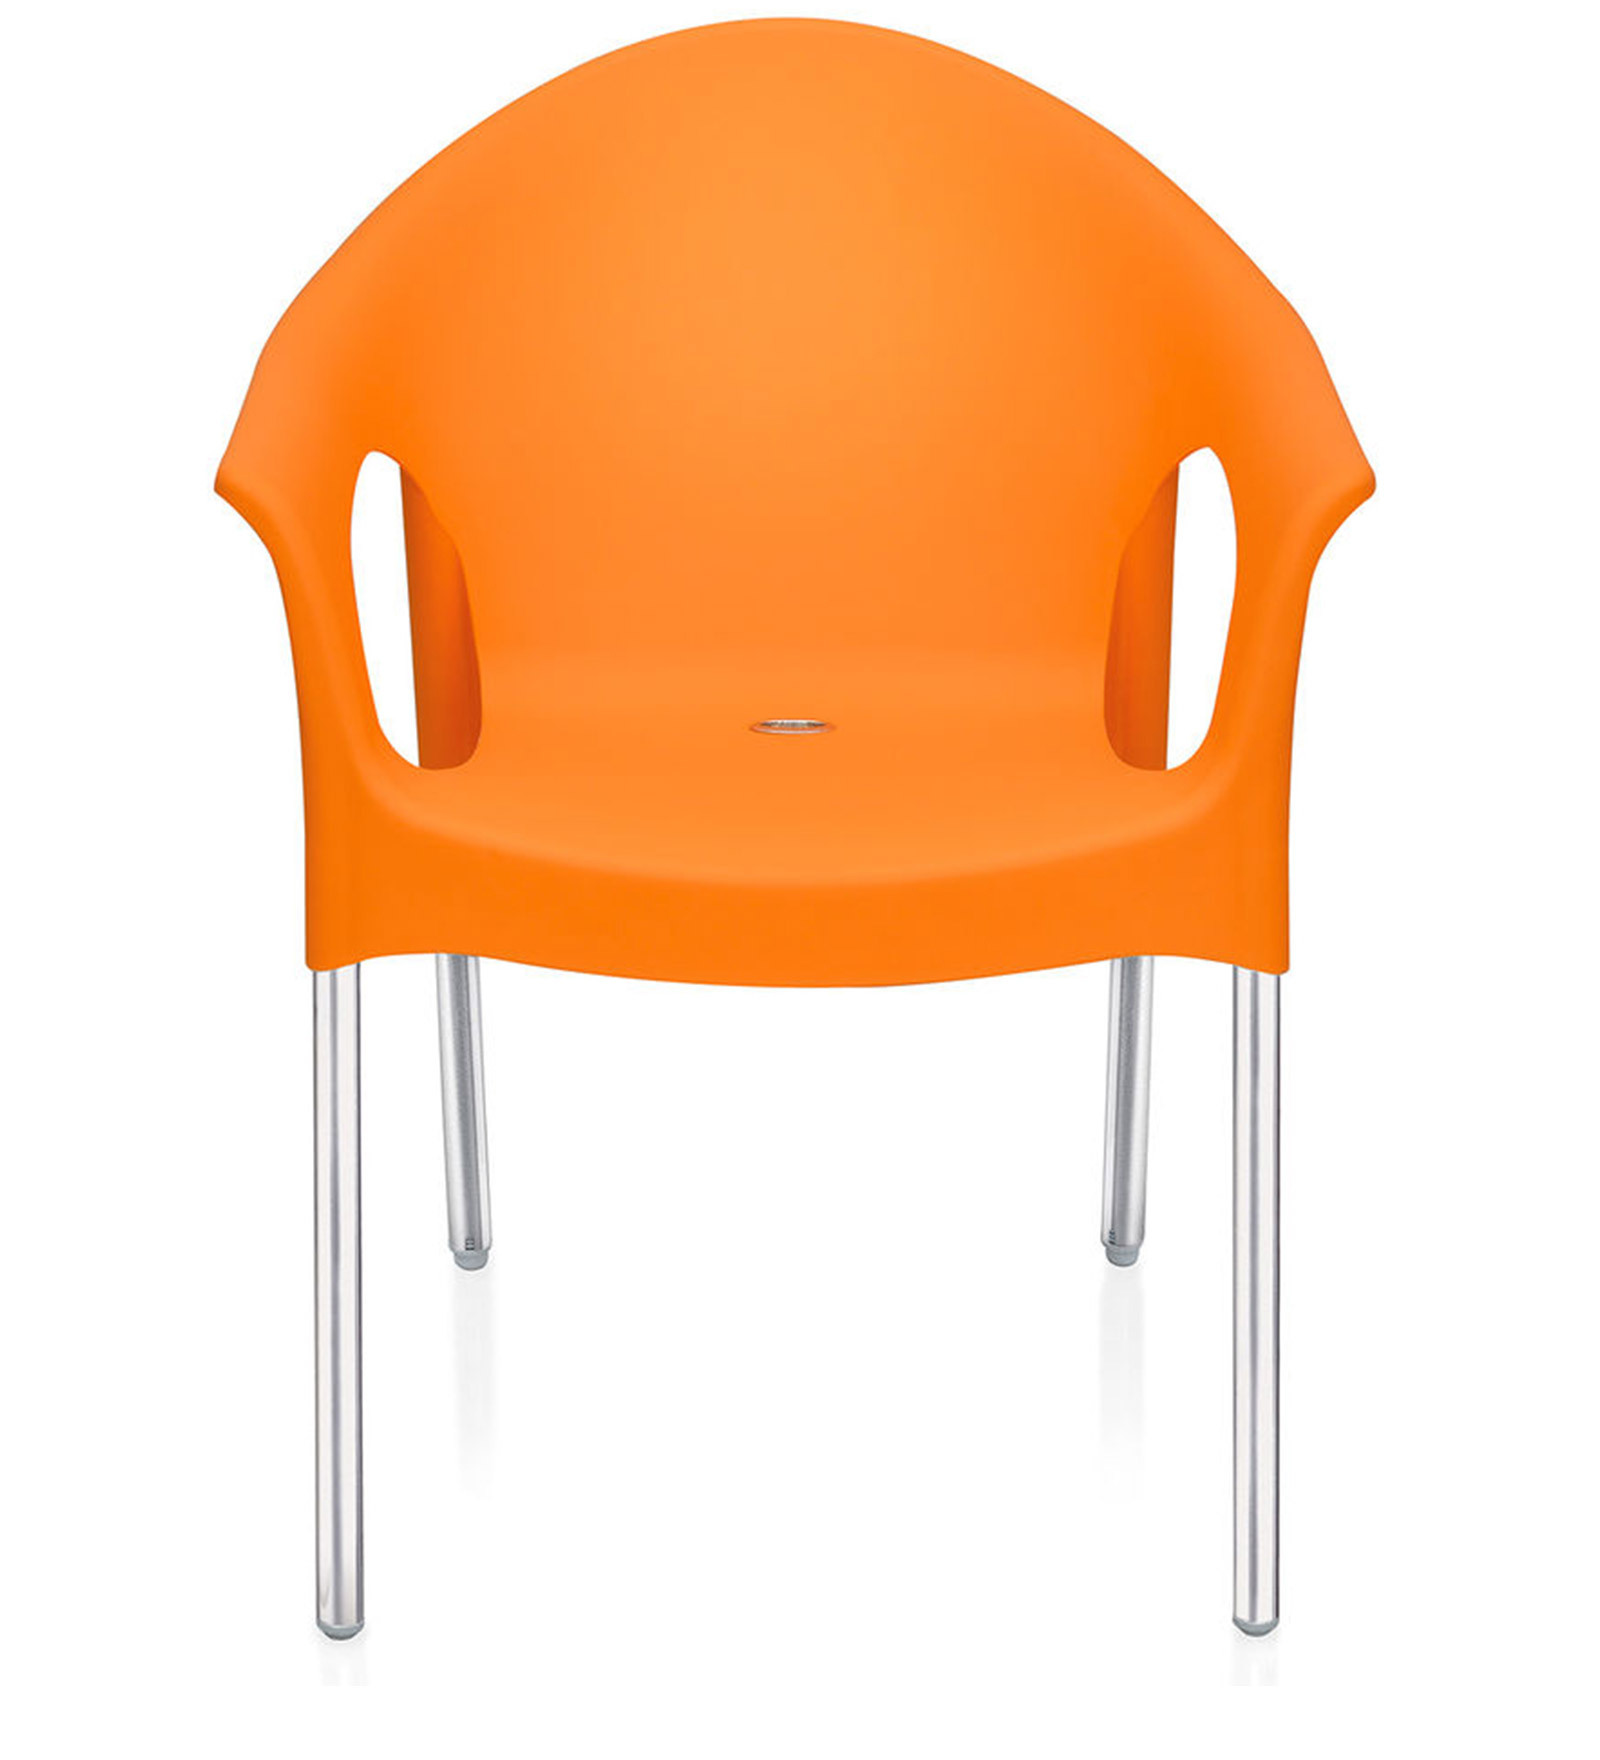Novella Series - 9 (Set of 2) Chairs in Orange Colour by Nilkamal: (205, 17, 1375, 1634)
